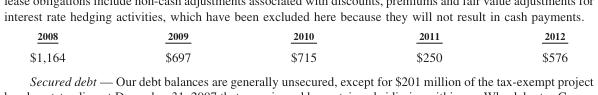table: (29, 29, 567, 63)
table column: (114, 29, 240, 63), (365, 29, 491, 63), (240, 29, 365, 63), (29, 29, 114, 63), (491, 29, 567, 63)
table column header: (29, 29, 567, 45)
table row: (29, 45, 567, 63), (29, 29, 567, 45)
